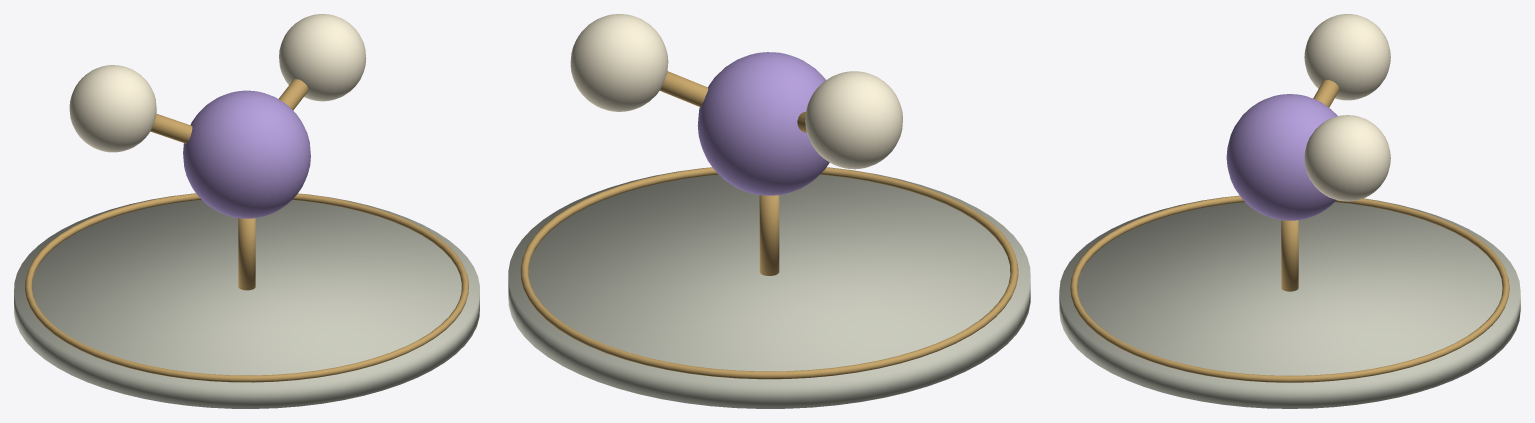
Rendered from science.glb.
3 views of the same model, side by side, from view 1: azimuth 30°, elevation 25°; view 2: azimuth 150°, elevation 25°; view 3: azimuth 270°, elevation 25° (orthographic). The views are drawn at different scales.
Visible parts, largest first — view 1: Limestone plinth, Oxygen, Brass inlay, Hydrogen A, Hydrogen B, Sculpture support, Covalent bond, Covalent bond.001; view 2: Limestone plinth, Oxygen, Brass inlay, Hydrogen A, Hydrogen B, Sculpture support, Covalent bond.001; view 3: Limestone plinth, Oxygen, Brass inlay, Hydrogen B, Hydrogen A, Sculpture support, Covalent bond.
Boxes of the visible parts, x1,y1,x2,y2 form: Limestone plinth: (14,193,479,408); Oxygen: (183,90,310,218); Brass inlay: (25,193,468,382); Hydrogen A: (69,65,156,152); Hydrogen B: (279,14,366,101); Sculpture support: (238,218,255,290); Covalent bond: (150,113,192,143); Covalent bond.001: (279,79,308,110); Limestone plinth: (508,167,1030,408); Oxygen: (697,52,829,195); Brass inlay: (520,167,1018,379); Hydrogen A: (805,71,902,169); Hydrogen B: (570,14,668,111); Sculpture support: (759,195,779,275); Covalent bond.001: (660,71,708,107); Limestone plinth: (1059,196,1520,408); Oxygen: (1226,94,1337,220); Brass inlay: (1070,195,1509,382); Hydrogen B: (1304,115,1390,201); Hydrogen A: (1304,14,1390,100); Sculpture support: (1281,220,1298,291); Covalent bond: (1313,80,1339,107).
Bounding box in the file's own units: 3.2 × 1.86 × 3.2.
